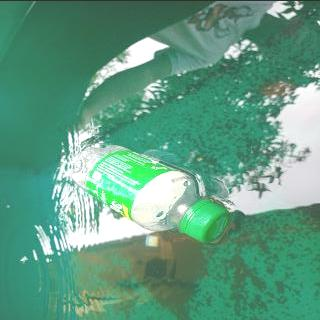bottle: (66, 137, 232, 246)
